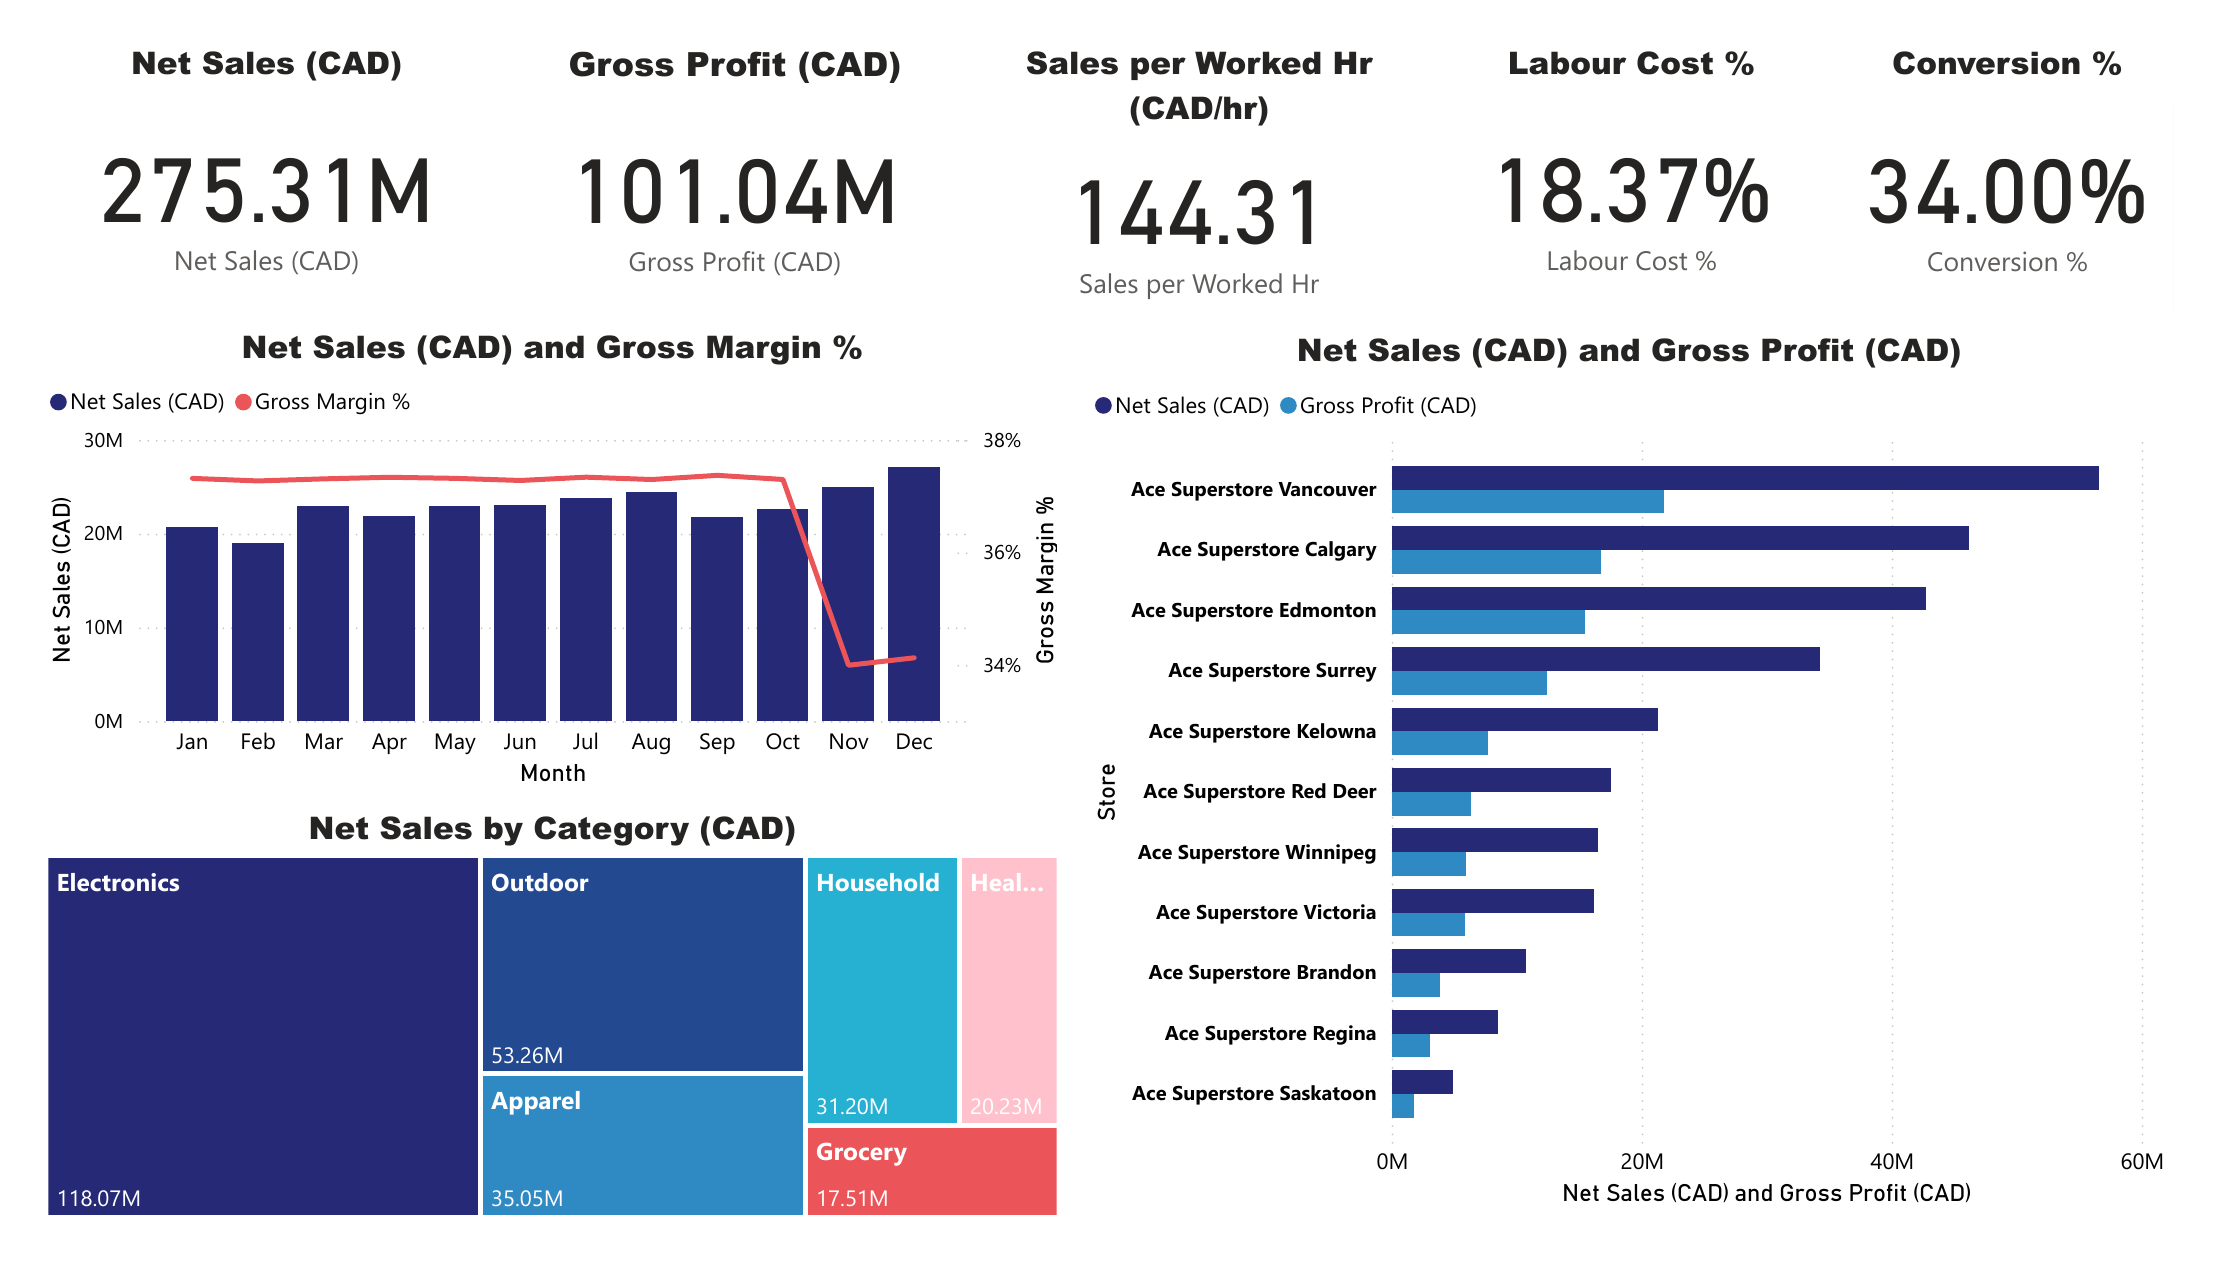

The dashboard page shown, as its layout file describes it:
{"tool":"powerbi","page":{"name":"Sales","canvas":[1280,720],"ordinal":0},"visuals":[{"type":"card","title":"Net Sales (CAD)","fields":{"Values":["Measures .Net Sales (CAD)"]},"box":[0,0,271.9,161.3],"z":0},{"type":"card","title":"Gross Profit (CAD) ","fields":{"Values":["Measures .Gross Profit (CAD)"]},"box":[280.8,0,271.9,161.3],"z":1000},{"type":"card","title":"Sales per Worked Hr (CAD/hr)","fields":{"Values":["Measures .Sales per Worked Hr"]},"box":[561.7,0,267.4,161.3],"z":2000},{"type":"card","title":"Labour Cost %","fields":{"Values":["Measures .Labour Cost %"]},"box":[836.5,0,236,161.3],"z":3000},{"type":"card","title":"Conversion %","fields":{"Values":["Measures .Conversion %"]},"box":[1080.6,0,199.4,161.7],"z":4000},{"type":"lineClusteredColumnComboChart","title":"Net Sales (CAD) and Gross Margin % ","fields":{"Category":["mart dim_date.month_name"],"Y":["Measures .Net Sales (CAD)"],"Y2":["Measures .Gross Margin %"]},"box":[0,170.3,615.4,282.3],"z":5000},{"type":"clusteredBarChart","title":"Net Sales (CAD) and Gross Profit (CAD) ","fields":{"Category":["mart dim_store.store_name"],"Y":["Measures .Net Sales (CAD)","Measures .Gross Profit (CAD)"]},"box":[627.2,171.8,652.8,533.3],"z":6000},{"type":"treemap","title":"Net Sales by Category (CAD)","fields":{"Group":["mart sales_store_hour_category.category"],"Values":["Measures .Category Net Sales"]},"box":[0,458.7,614.9,251],"z":7000}]}

Visuals, with their boxes in screenshot pixels (x1, y1, x2, y2), scaled from the page's 1280x720 canvas onto the 2214x1280 screenshot:
"Net Sales (CAD)" card: box=[0, 0, 470, 287]
"Gross Profit (CAD) " card: box=[486, 0, 956, 287]
"Sales per Worked Hr (CAD/hr)" card: box=[972, 0, 1434, 287]
"Labour Cost %" card: box=[1447, 0, 1855, 287]
"Conversion %" card: box=[1869, 0, 2213, 287]
"Net Sales (CAD) and Gross Margin % " lineClusteredColumnComboChart: box=[0, 303, 1064, 805]
"Net Sales (CAD) and Gross Profit (CAD) " clusteredBarChart: box=[1085, 305, 2213, 1254]
"Net Sales by Category (CAD)" treemap: box=[0, 815, 1064, 1262]
